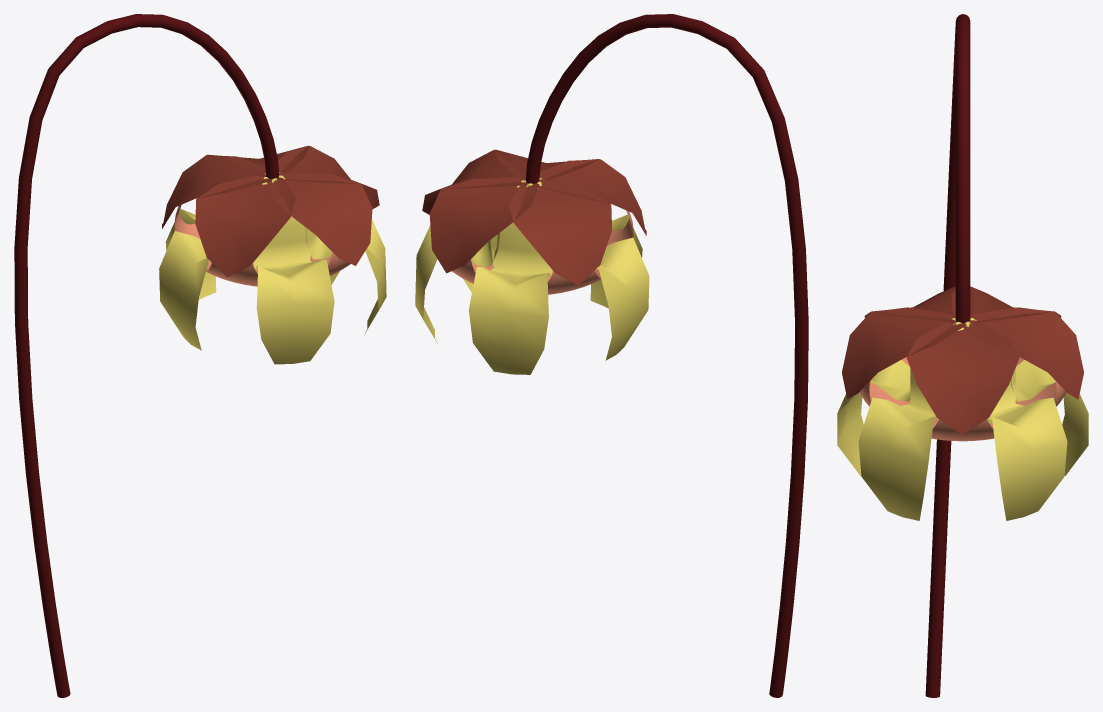
Rendered from flower_v001.glb.
3 renders of one model, left to right at view 1: azimuth 30°, elevation 25°; view 2: azimuth 150°, elevation 25°; view 3: azimuth 270°, elevation 25°, orthographic. The views are drawn at different scales.
Parts seen in each view (by area): view 1: top_petal, middle_petal, BézierCurve, bottom_petals; view 2: top_petal, middle_petal, BézierCurve, bottom_petals; view 3: middle_petal, top_petal, BézierCurve, bottom_petals.
Boxes of the visible parts, x1=… form: top_petal: x1=162, y1=145, x2=379, y2=277; middle_petal: x1=159, y1=172, x2=386, y2=364; BézierCurve: x1=14, y1=14, x2=279, y2=697; bottom_petals: x1=174, y1=205, x2=350, y2=286; top_petal: x1=422, y1=149, x2=646, y2=285; middle_petal: x1=415, y1=178, x2=649, y2=374; BézierCurve: x1=525, y1=14, x2=808, y2=697; bottom_petals: x1=452, y1=210, x2=633, y2=294; middle_petal: x1=837, y1=318, x2=1088, y2=520; top_petal: x1=842, y1=286, x2=1083, y2=434; BézierCurve: x1=925, y1=14, x2=970, y2=697; bottom_petals: x1=859, y1=357, x2=1066, y2=441.
Size of the model in its own units: 3.12 by 5.39 by 1.74.
